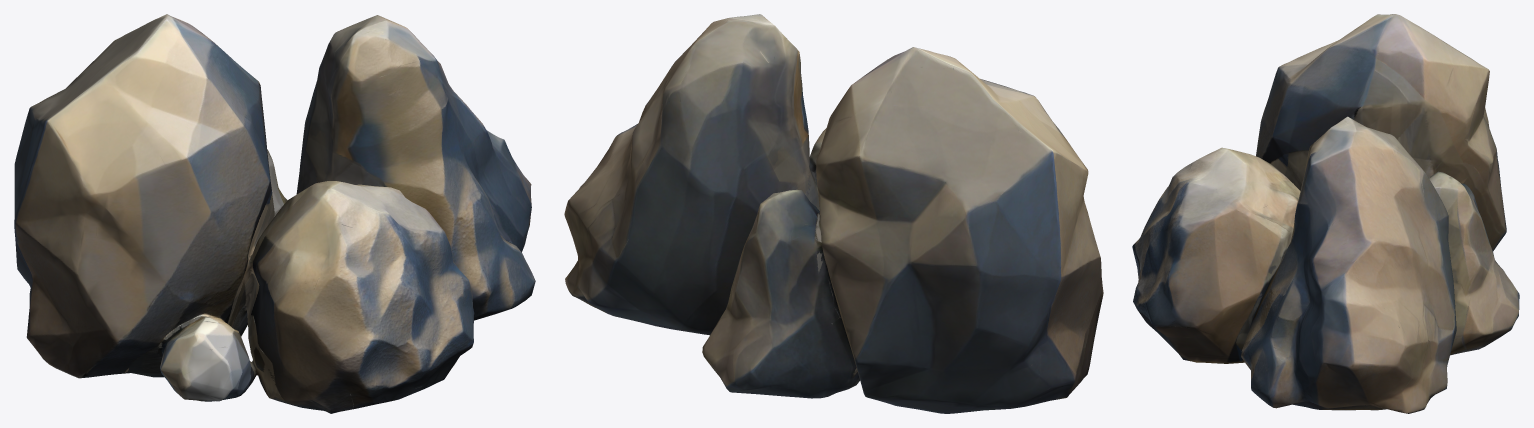
File: rock.glb
3 views of the same model, side by side, from view 1: azimuth 30°, elevation 25°; view 2: azimuth 150°, elevation 25°; view 3: azimuth 270°, elevation 25° (orthographic). The views are drawn at different scales.
Bounding box in the file's own units: 2 × 1.27 × 1.56.
1 material, 1 textured.
